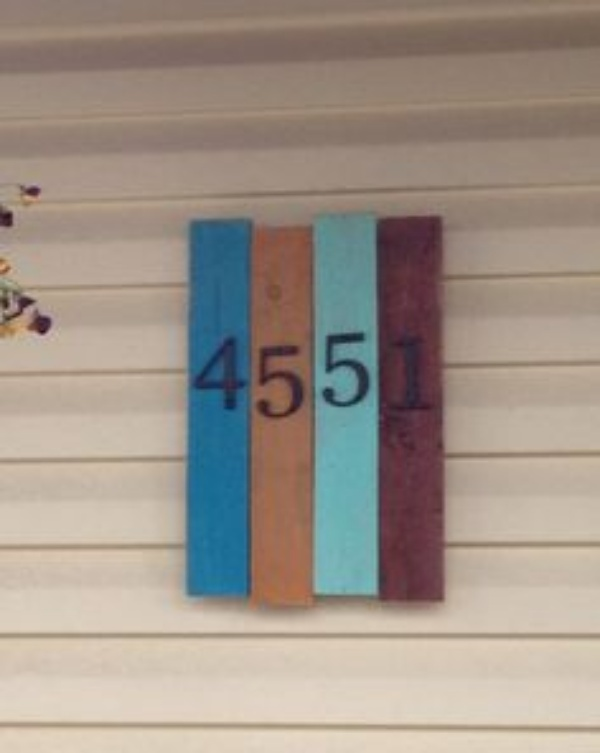text: (193, 329, 208, 420), (209, 329, 224, 420), (225, 329, 240, 420), (241, 329, 256, 420), (257, 329, 272, 420), (273, 329, 288, 420), (289, 329, 304, 420), (305, 329, 320, 420), (321, 329, 336, 420), (337, 329, 352, 420), (353, 329, 368, 420), (369, 329, 384, 420), (385, 329, 400, 420), (401, 329, 416, 420), (417, 329, 432, 420), (433, 329, 438, 420), (189, 329, 192, 420)
